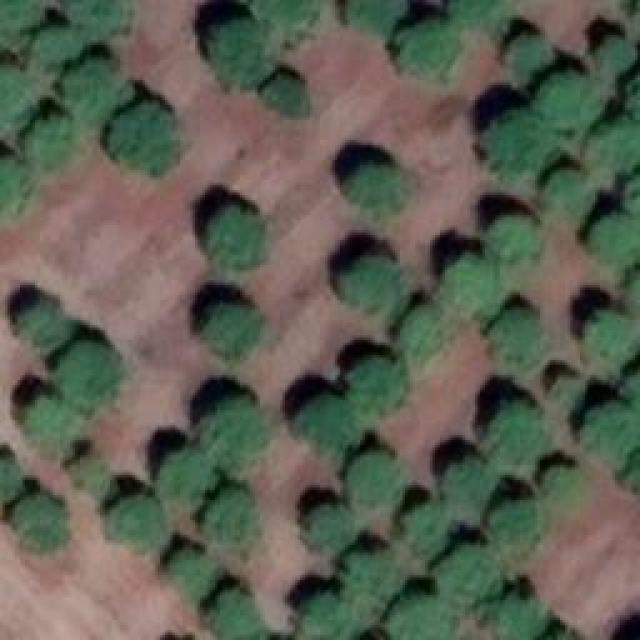Tree: (103, 98, 187, 177), (18, 385, 92, 465), (400, 25, 476, 99), (203, 398, 281, 466), (205, 20, 284, 87), (483, 98, 549, 178), (45, 335, 120, 405), (203, 210, 282, 274), (60, 43, 134, 108), (485, 493, 548, 568), (292, 395, 362, 462), (100, 490, 172, 555), (493, 298, 553, 375), (203, 303, 270, 369), (148, 436, 213, 504), (450, 253, 515, 321), (577, 302, 639, 373), (434, 543, 502, 607), (378, 585, 456, 640), (343, 548, 402, 620), (160, 548, 227, 611), (397, 312, 467, 371), (200, 495, 270, 554), (348, 348, 409, 414), (10, 295, 82, 350), (345, 453, 406, 517), (485, 403, 549, 463), (585, 108, 640, 176), (543, 70, 606, 128), (340, 258, 400, 318), (10, 490, 67, 552), (398, 504, 462, 558), (260, 67, 319, 124), (348, 154, 408, 210), (538, 173, 594, 233), (28, 105, 80, 169), (440, 458, 499, 514), (302, 500, 359, 557), (494, 213, 548, 273), (342, 0, 412, 46), (67, 0, 138, 45), (585, 397, 640, 455), (70, 445, 119, 509), (460, 0, 535, 40), (247, 0, 317, 42), (0, 153, 36, 234), (0, 60, 38, 135), (590, 210, 639, 265), (490, 590, 543, 640), (205, 595, 263, 640), (293, 590, 345, 639), (590, 28, 640, 78), (30, 20, 83, 67), (510, 33, 557, 85), (0, 0, 53, 46), (545, 463, 586, 514), (545, 370, 587, 416), (0, 455, 28, 506), (617, 166, 640, 210)
